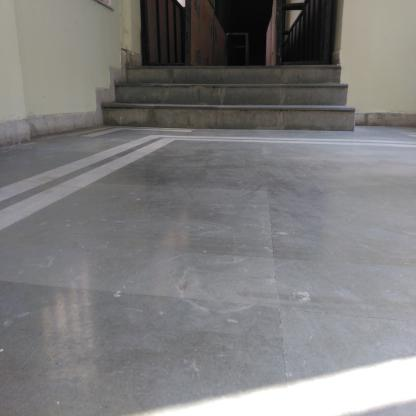stairs: (132, 64, 339, 134)
